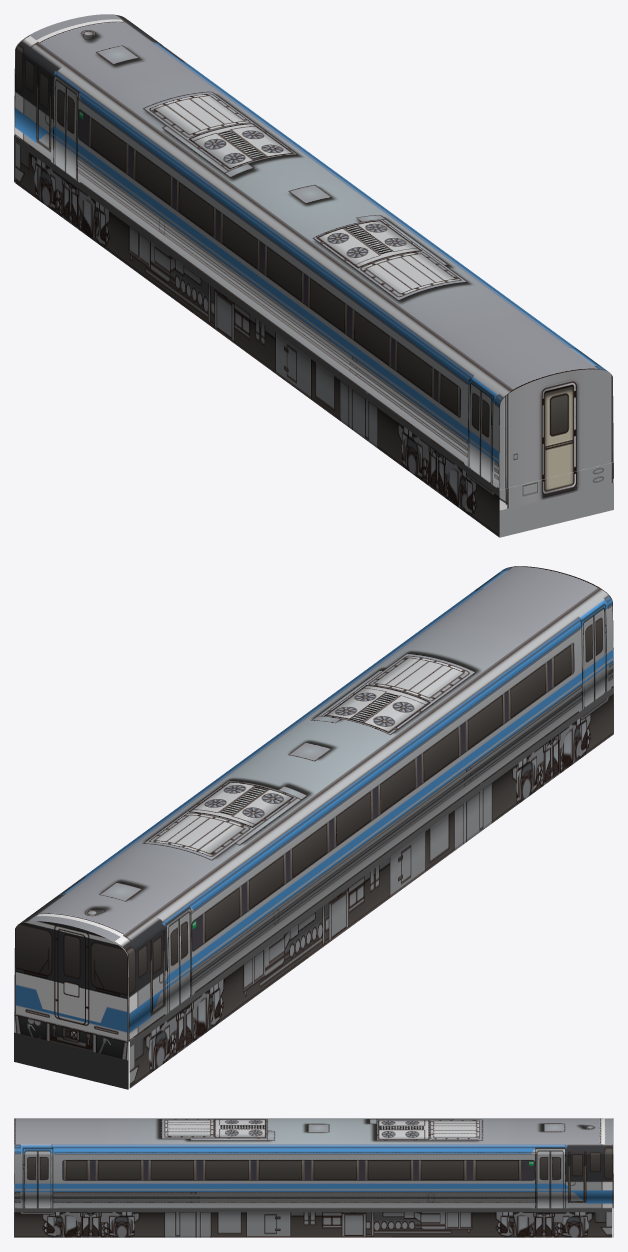
Rendered from car2.glb.
The picture shows the model from 3 angles, top to bottom: view 1: azimuth 30°, elevation 25°; view 2: azimuth 150°, elevation 25°; view 3: azimuth 270°, elevation 25°; orthographic projection. The views are drawn at different scales.
Visible parts, largest first — view 1: jr-shikoku-kiha185-car2; view 2: jr-shikoku-kiha185-car2; view 3: jr-shikoku-kiha185-car2.
Boxes of the visible parts, x1,y1,x2,y2 form: jr-shikoku-kiha185-car2: (14,14,613,537); jr-shikoku-kiha185-car2: (14,566,613,1089); jr-shikoku-kiha185-car2: (14,1118,613,1237).
Size of the model in its own units: 2.9 by 3.62 by 21.33.
9 materials, 8 textured.
